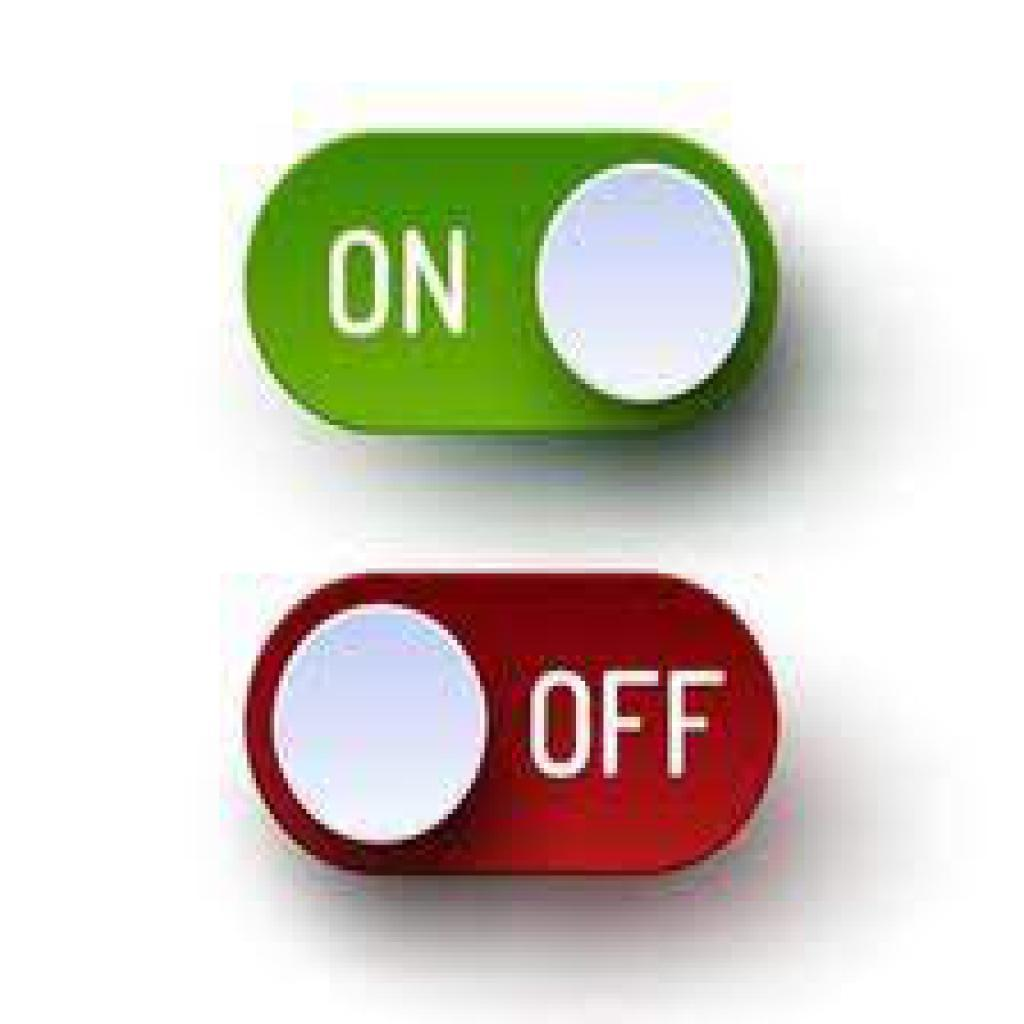switch: (245, 571, 781, 878), (244, 131, 780, 435)
